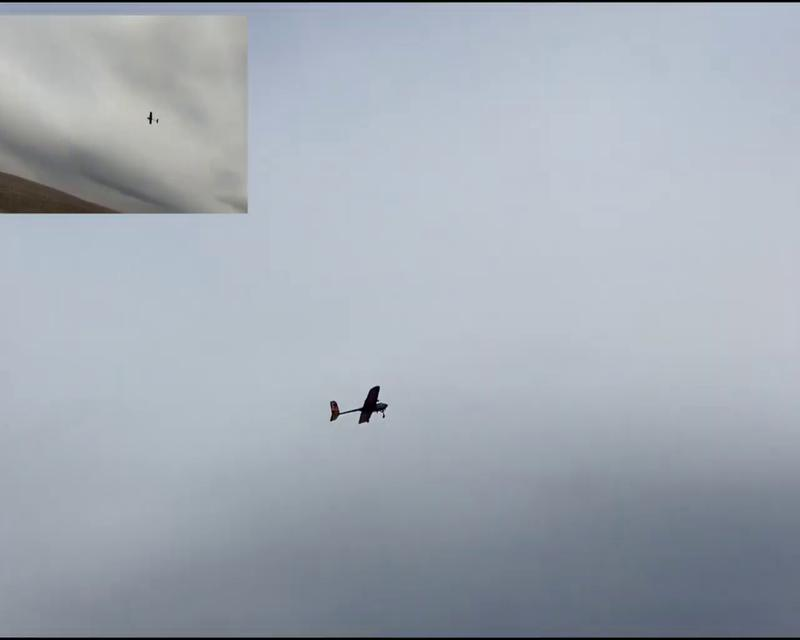UAV: (148, 112, 160, 125)
